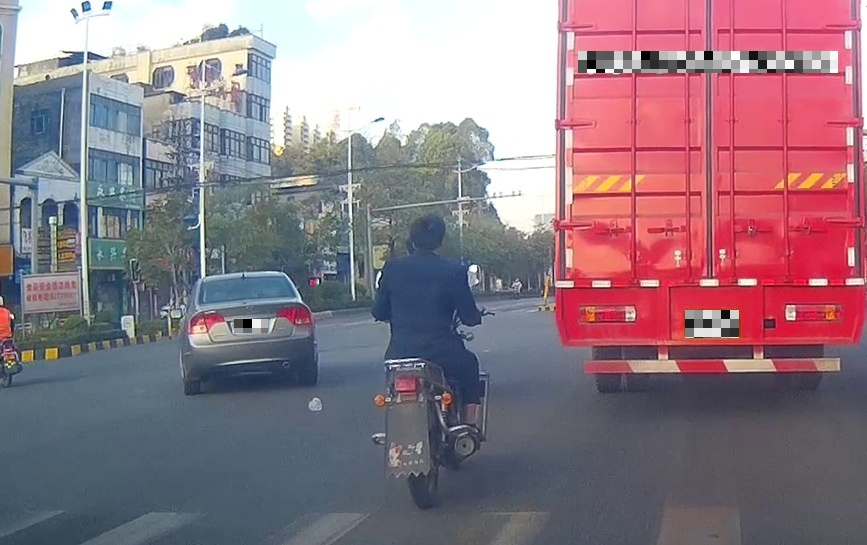L_light: (187, 311, 226, 335)
R_light: (276, 305, 313, 326)
T_light: (236, 277, 251, 281)
day-left: (179, 271, 319, 395)
plate_1: (234, 319, 268, 333)
plate_2: (578, 51, 838, 73)
plate_3: (685, 310, 739, 338)
